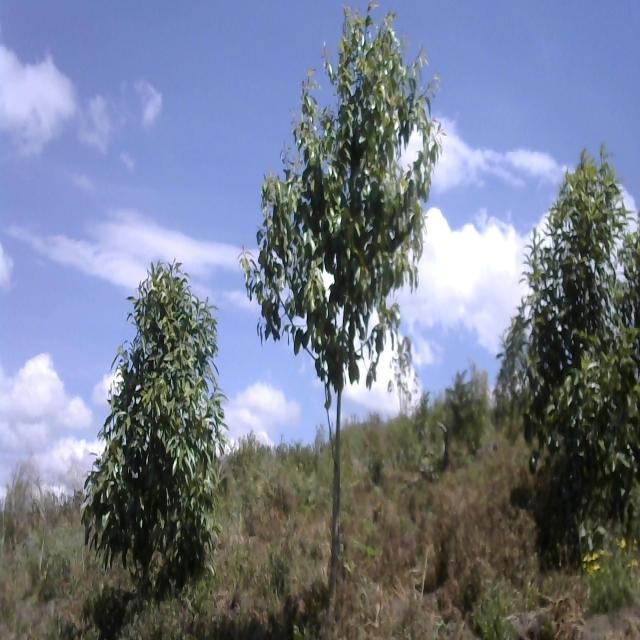Prunus Africana: (241, 0, 447, 596), (514, 112, 640, 554), (82, 238, 231, 574)
